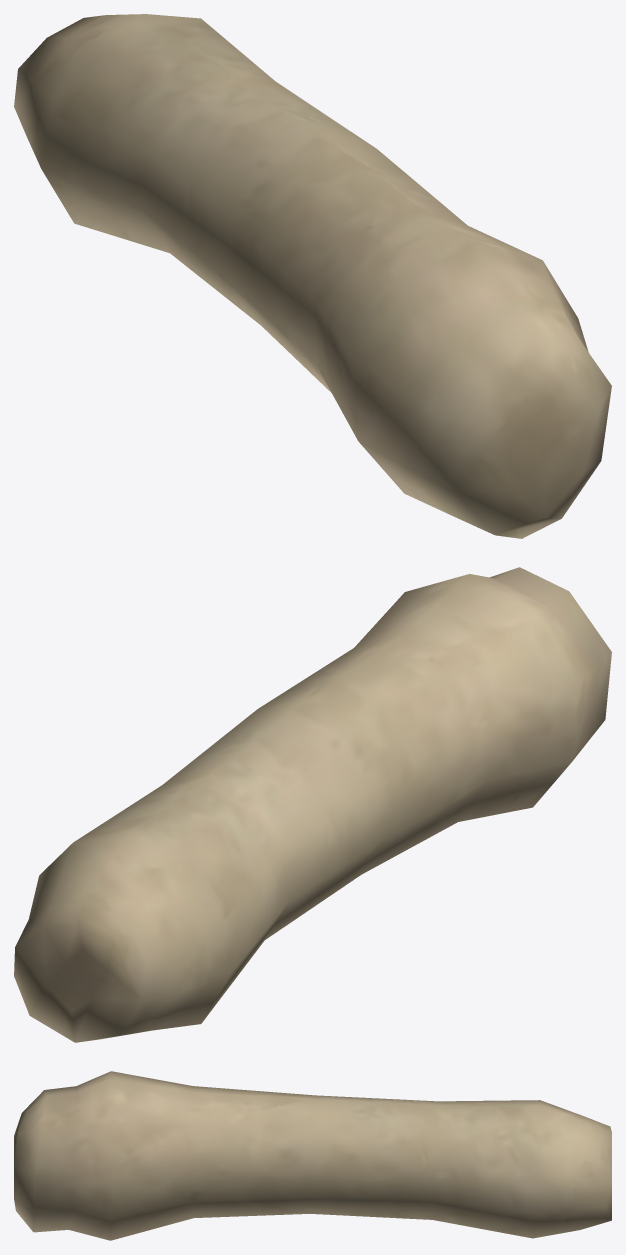
File: Caudal_Vertebrae16.glb
The picture shows the model from 3 angles, top to bottom: view 1: azimuth 30°, elevation 25°; view 2: azimuth 150°, elevation 25°; view 3: azimuth 270°, elevation 25°; orthographic projection. The views are drawn at different scales.
Visible parts, largest first — view 1: Caudal_Vertebrae_35:Group18947; view 2: Caudal_Vertebrae_35:Group18947; view 3: Caudal_Vertebrae_35:Group18947.
Part boxes in pixels (x1,y1,x2,y2): Caudal_Vertebrae_35:Group18947: (14, 14, 611, 538); Caudal_Vertebrae_35:Group18947: (14, 567, 611, 1042); Caudal_Vertebrae_35:Group18947: (14, 1071, 611, 1240).
Size of the model in its own units: 3.77 by 3.85 by 13.13.
1 material, 1 textured.
